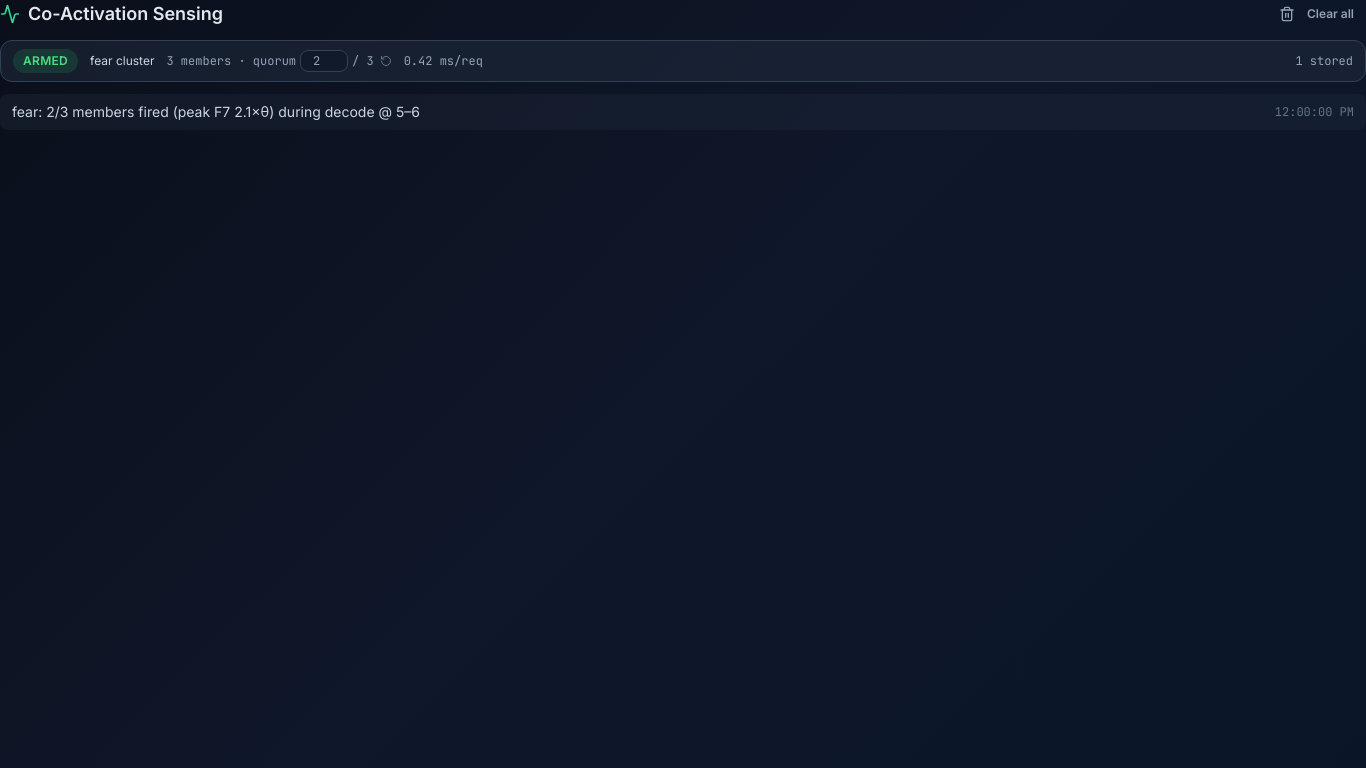
Test: SensingPanel › lists events newest-first and expands detail on click
The width and height of the screenshot is (1366, 768).
Click the text "fear: 2/3 members fired (peak F7 2.1×θ) during decode @ 5–6".
click(216, 112)  # box [12, 103, 420, 120]
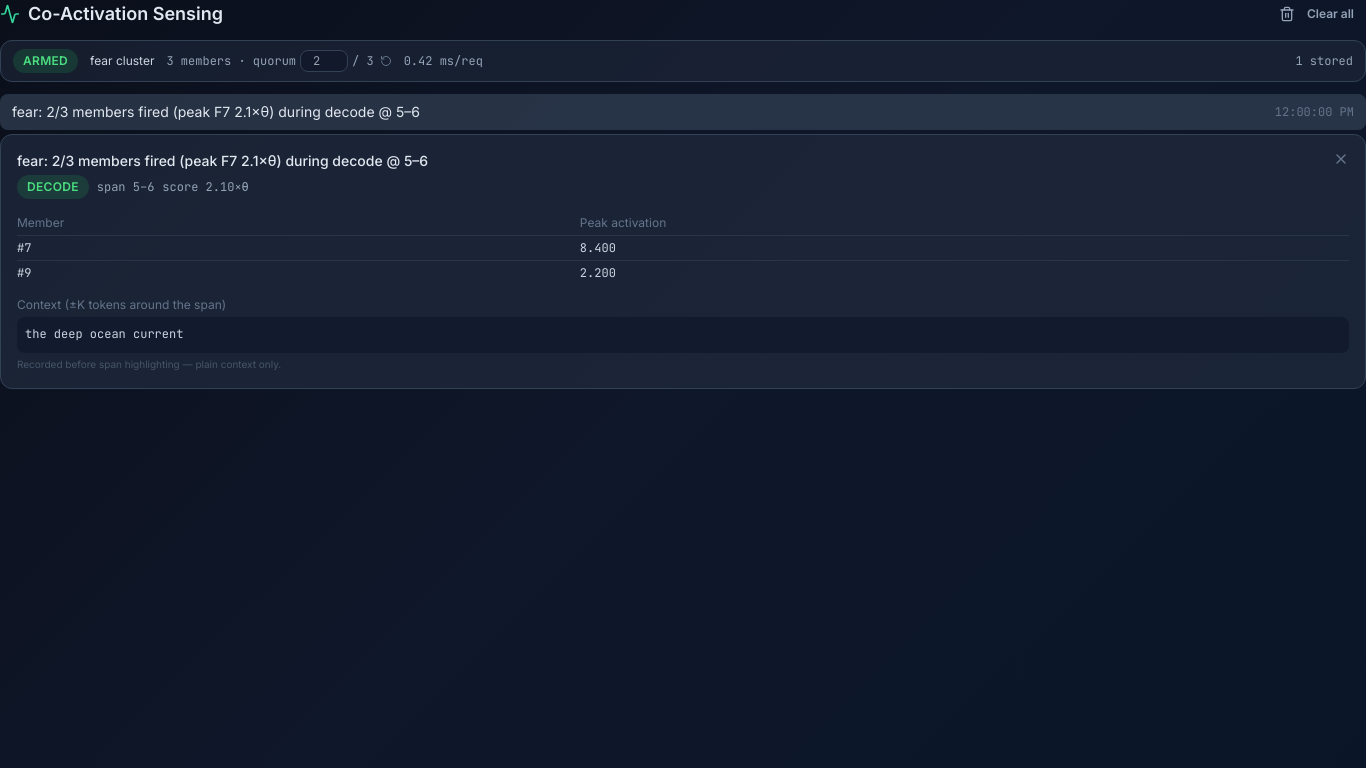
Result: the text "the deep ocean current" is shown at [17, 317, 1349, 352]
